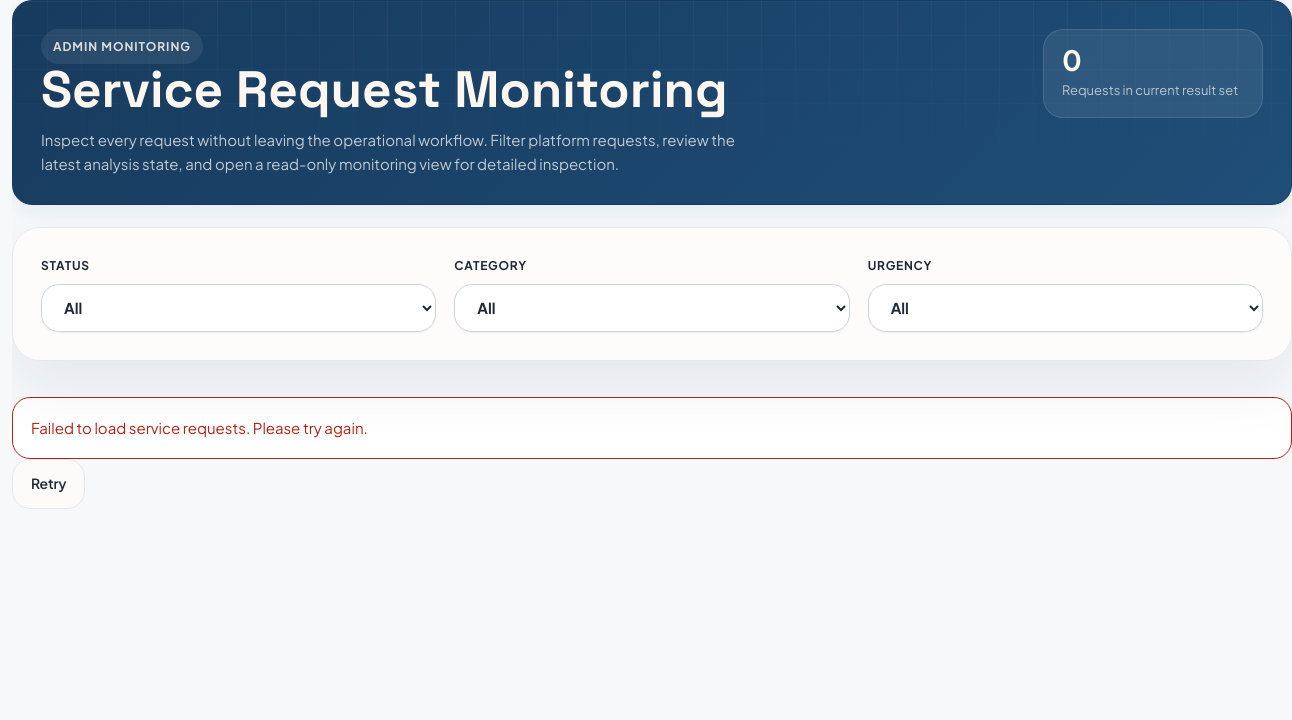
it: Admin monitoring list › shows API error and retries successfully
This screenshot has width=1292, height=720.
Expected: the message shows "Failed to load service requests", [31,418,368,437]
Click the button "Retry".
click(49, 484)  # box [12,459,85,509]
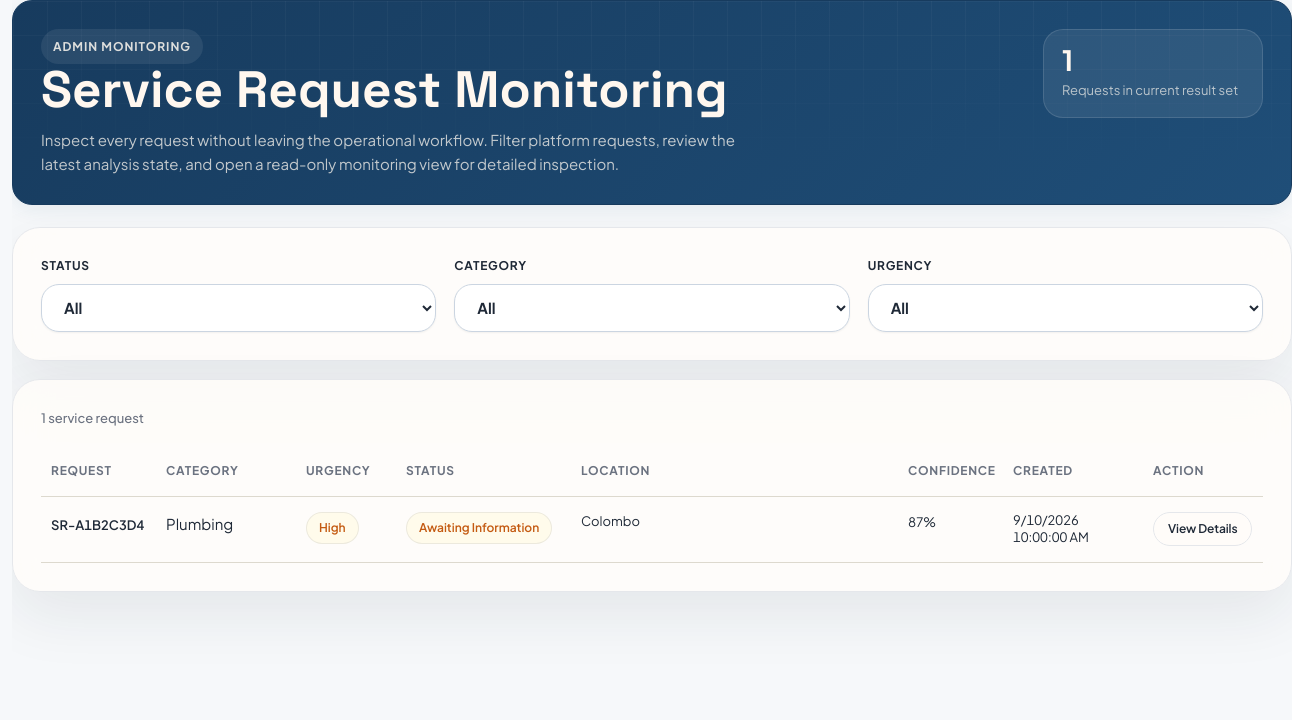
Expected: the text "SR-A1B2C3D4" is shown, [51,517,144,533]
